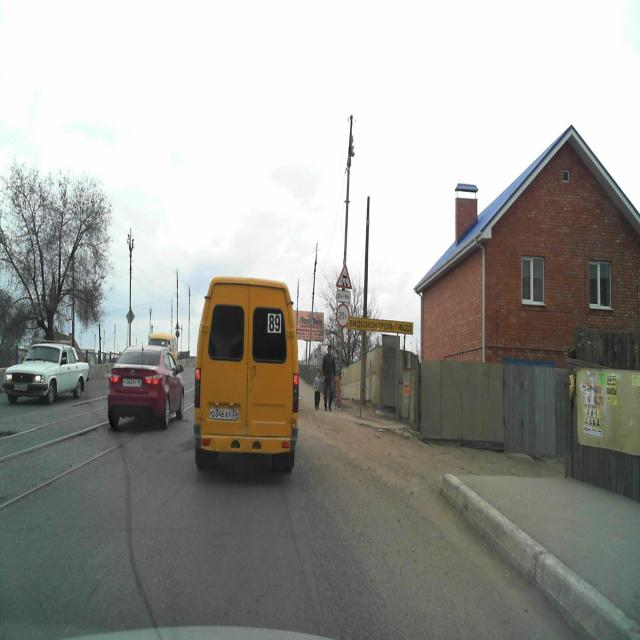road sign: (336, 264, 351, 289), (336, 290, 350, 304)
